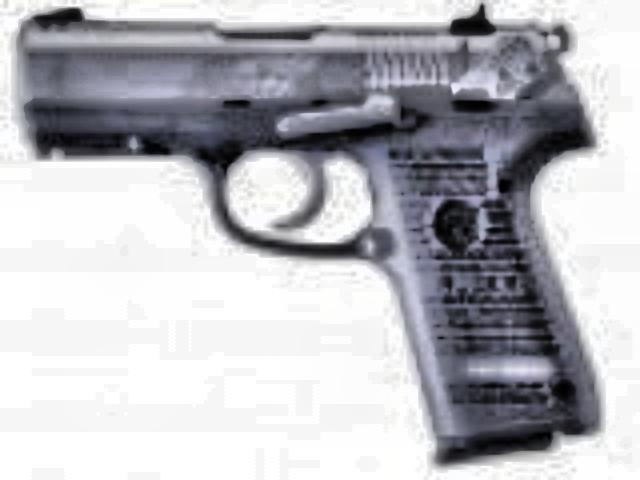pistol: (12, 0, 600, 460)
